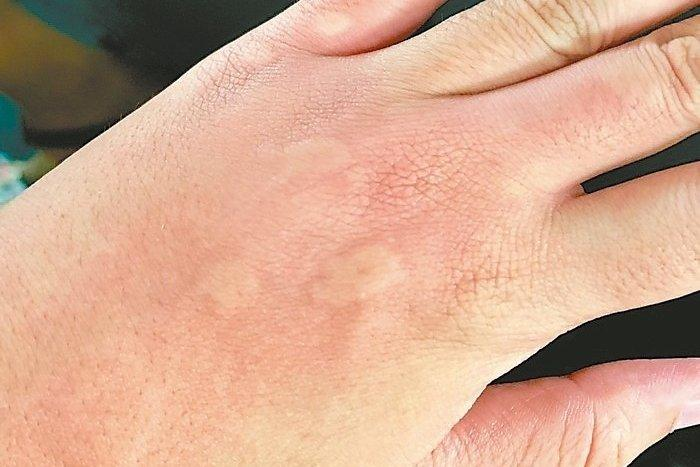Mosquito: (301, 233, 416, 326), (258, 134, 358, 198), (189, 254, 269, 318)
